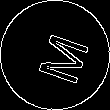M_W: (23, 25, 87, 85)
